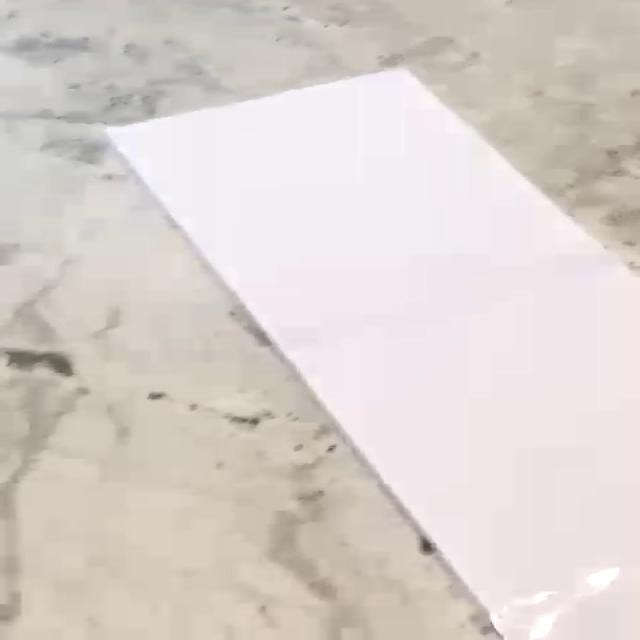road: (102, 68, 640, 640)
